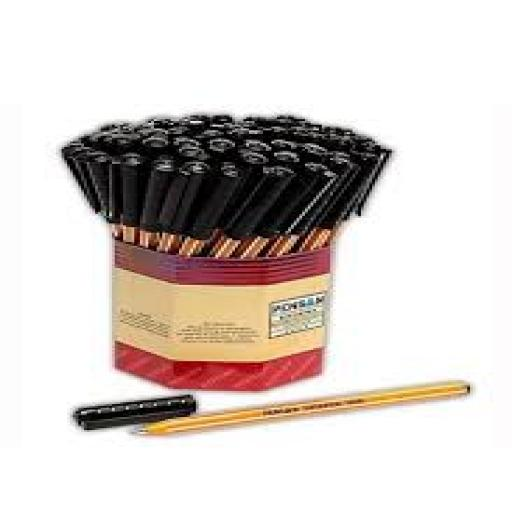tukenmez-kalem: (47, 109, 423, 252), (39, 385, 512, 449)
